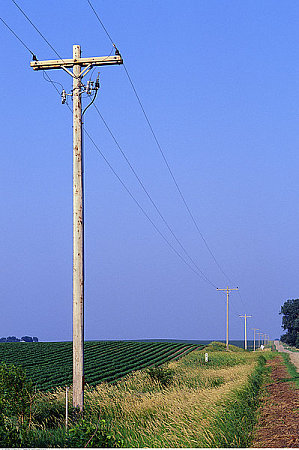utility_pole: (22, 36, 128, 112)
